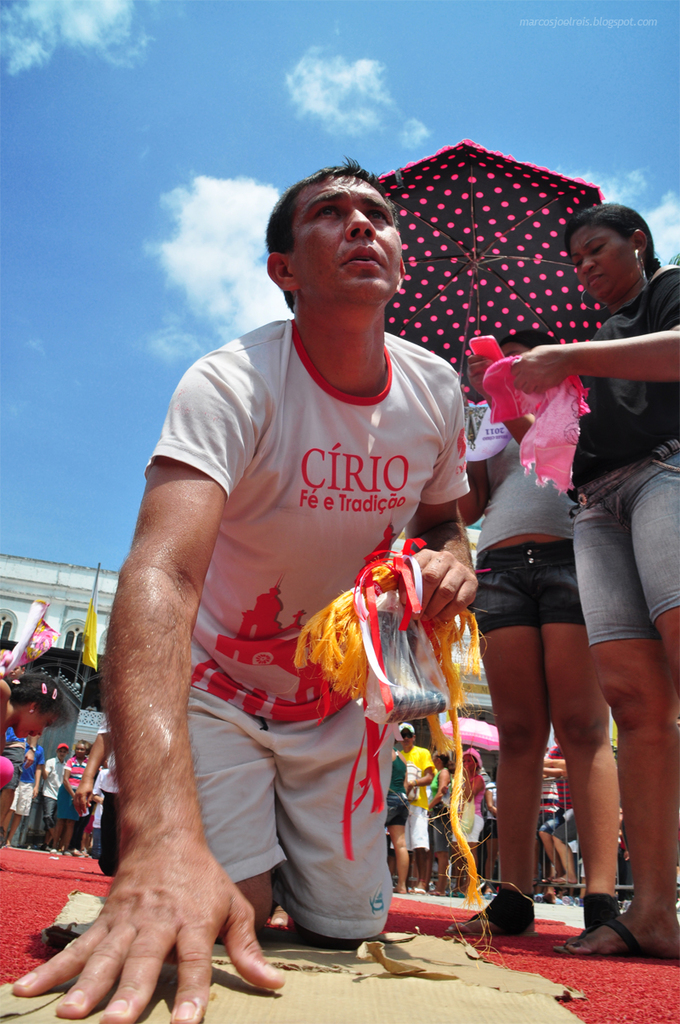Person: (0, 151, 679, 1024)
